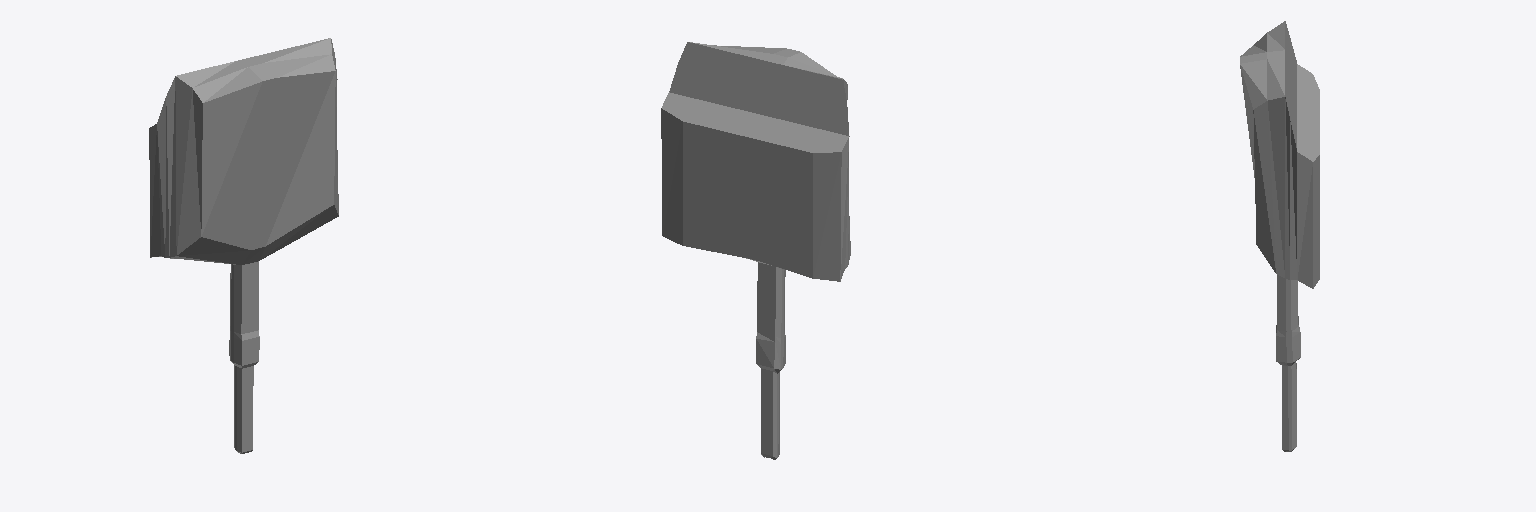
The model's file is tank-head.obj.
The picture shows the model from 3 angles: view 1: azimuth 30°, elevation 25°; view 2: azimuth 150°, elevation 25°; view 3: azimuth 270°, elevation 25°; orthographic projection.
Bounding box in the file's own units: 6.25 × 13.06 × 2.41.